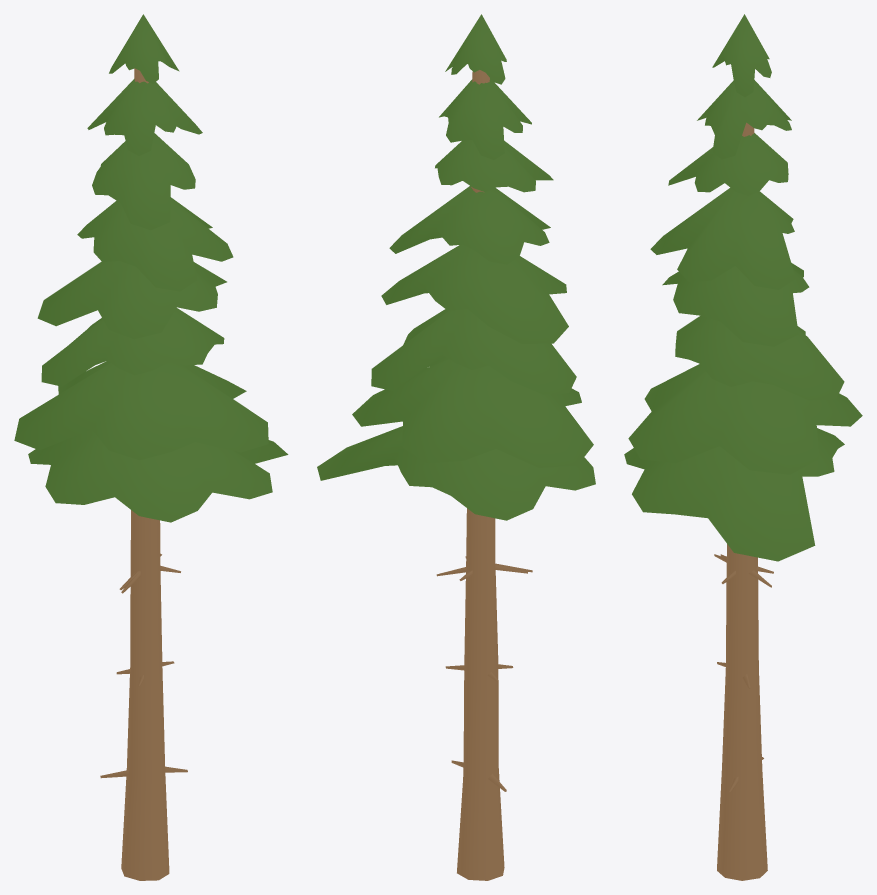
Rendered from Blender_Lodgepole_2.glb.
The picture shows the model from 3 angles, left to right: view 1: azimuth 30°, elevation 25°; view 2: azimuth 150°, elevation 25°; view 3: azimuth 270°, elevation 25°; orthographic projection.
Visible parts, largest first — view 1: Blender_Lodgepole_2; view 2: Blender_Lodgepole_2; view 3: Blender_Lodgepole_2.
Part boxes in pixels (box(x1,y1,x2,y2)): Blender_Lodgepole_2: box(14, 14, 288, 880); Blender_Lodgepole_2: box(317, 14, 595, 880); Blender_Lodgepole_2: box(624, 14, 862, 880).
Size of the model in its own units: 6.11 by 19.23 by 4.86.
